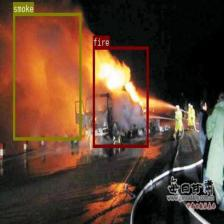fire: (93, 46, 148, 147)
smoke: (13, 13, 80, 140)
